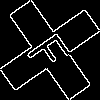F: (25, 25, 80, 76)
